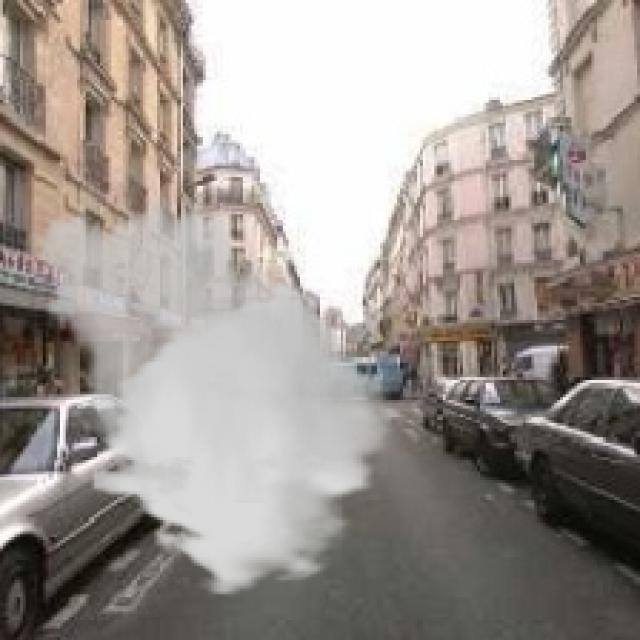Smoke: (22, 188, 392, 598)
